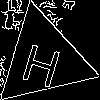H: (18, 34, 66, 89)
